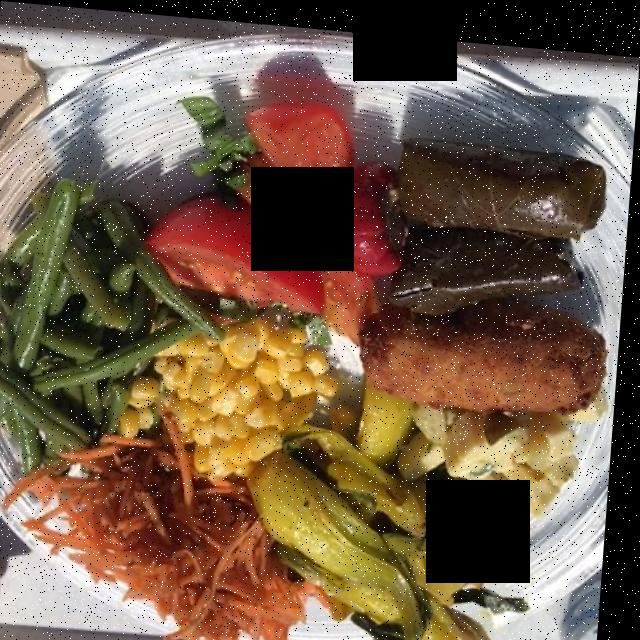bell-pepper-red-raw: (332, 144, 409, 267)
carrot-raw: (20, 416, 340, 640)
cheese: (417, 382, 612, 516)
corn: (111, 300, 351, 484)
french-beans: (6, 137, 203, 475)
tomato-raw: (140, 92, 375, 334)
